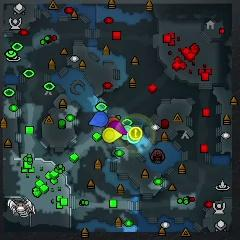Other: (130, 127, 142, 140), (127, 133, 140, 144)
p1: (90, 111, 109, 127)
p2: (122, 125, 134, 141)
p3: (108, 120, 127, 135)
p4: (103, 127, 121, 142)
p5: (106, 116, 119, 126)
